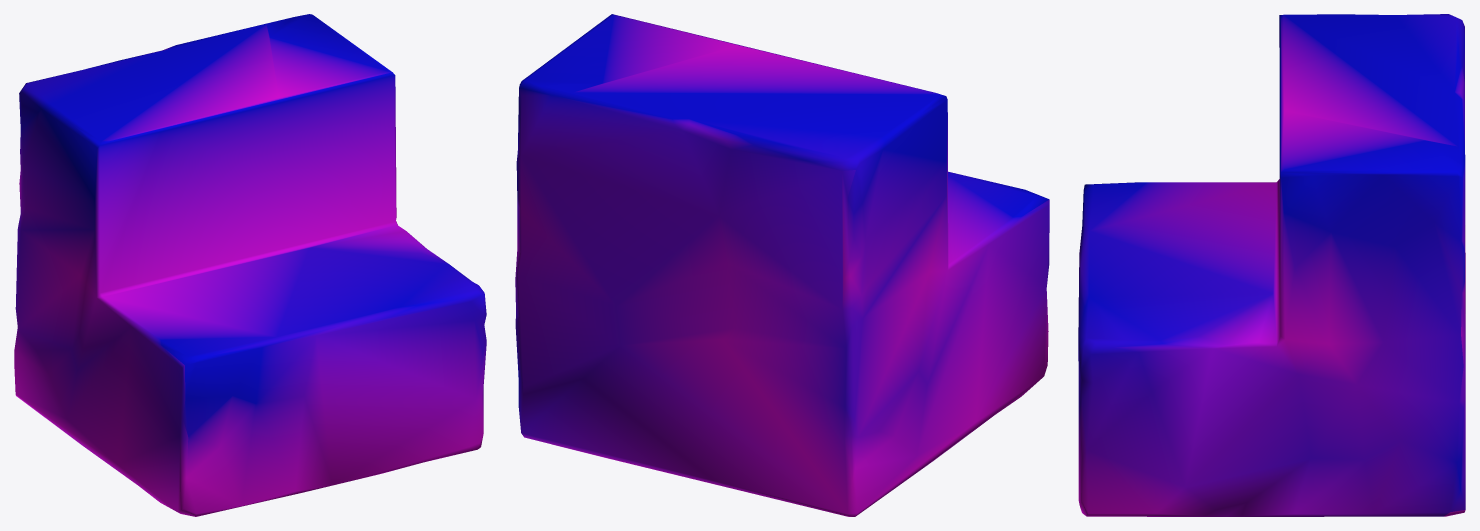
Rendered from SM_Block_B_01.FBX.
3 renders of one model, left to right at view 1: azimuth 30°, elevation 25°; view 2: azimuth 150°, elevation 25°; view 3: azimuth 270°, elevation 25°, orthographic. The views are drawn at different scales.
Visible parts, largest first — view 1: SM_Block_B_01; view 2: SM_Block_B_01; view 3: SM_Block_B_01.
Boxes of the visible parts, x1,y1,x2,y2 form: SM_Block_B_01: (14,14,486,516); SM_Block_B_01: (515,14,1049,516); SM_Block_B_01: (1078,14,1465,516).
Size of what is drawn, in the model's own units: 203 by 202 by 200.
